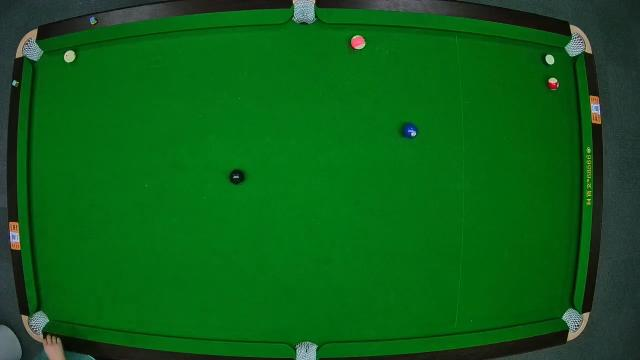bag1: (22, 38, 44, 60)
bag2: (291, 0, 317, 26)
bag3: (566, 29, 588, 57)
bag4: (29, 310, 49, 334)
bag5: (294, 340, 318, 360)
bag6: (563, 308, 585, 332)
ball0: (62, 48, 78, 64)
ball10: (542, 52, 558, 68)
ball11: (546, 77, 560, 91)
ball12: (350, 34, 366, 52)
ball2: (404, 125, 420, 139)
ball8: (229, 169, 243, 185)
